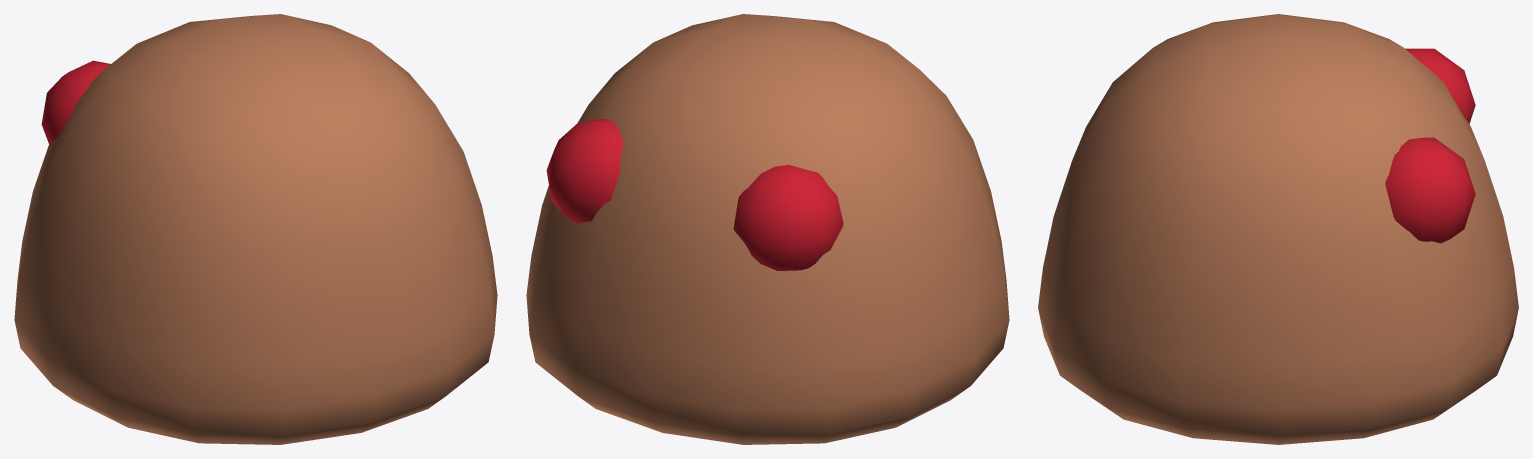
Rendered from Slime.fbx.
The picture shows the model from 3 angles, left to right: view 1: azimuth 30°, elevation 25°; view 2: azimuth 150°, elevation 25°; view 3: azimuth 270°, elevation 25°; orthographic projection.
Visible parts, largest first — view 1: Slime; view 2: Slime; view 3: Slime.
Boxes of the visible parts, box(x1,y1,x2,y2) form: Slime: box(14, 14, 497, 444); Slime: box(526, 14, 1009, 444); Slime: box(1038, 14, 1518, 444).
Size of the model in its own units: 82.39 by 64.32 by 82.39.
